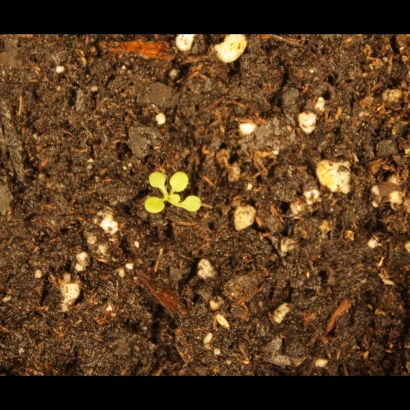leaf: (145, 168, 168, 191), (144, 195, 167, 218), (182, 194, 205, 217), (168, 170, 191, 193)
